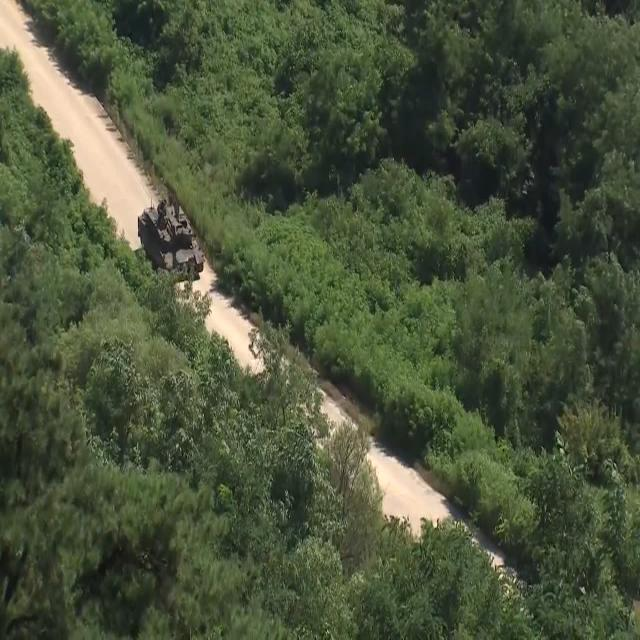korea tank: (136, 187, 206, 289)
